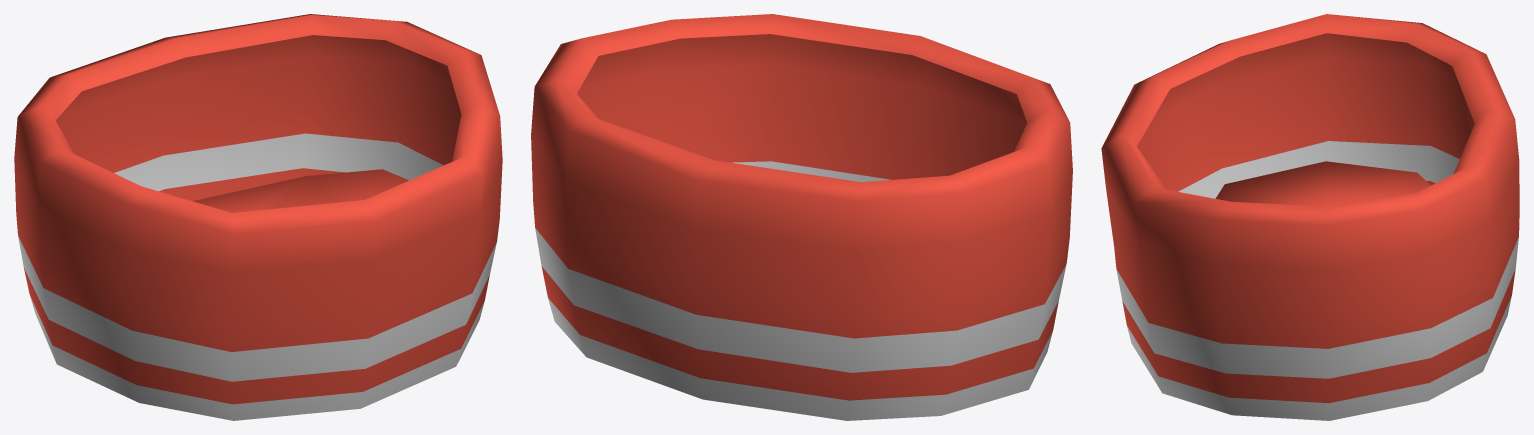
The picture shows the model from 3 angles, left to right: view 1: azimuth 30°, elevation 25°; view 2: azimuth 150°, elevation 25°; view 3: azimuth 270°, elevation 25°; orthographic projection. The views are drawn at different scales.
Parts seen in each view (by area): view 1: Bottom_65.001; view 2: Bottom_65.001; view 3: Bottom_65.001.
Part boxes in pixels (left/top/right/bottom): Bottom_65.001: left=14, top=14, right=502, bottom=420; Bottom_65.001: left=531, top=14, right=1072, bottom=420; Bottom_65.001: left=1101, top=14, right=1519, bottom=420.
Size of the model in its own units: 54.45 by 28 by 45.23.
